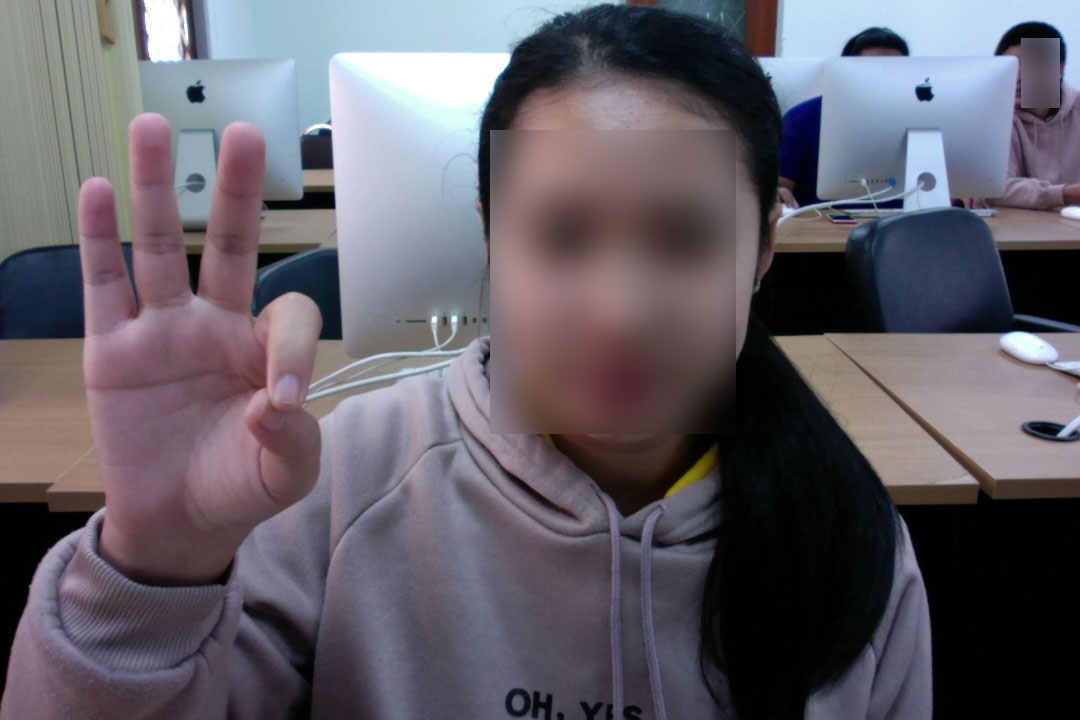for: (31, 63, 349, 590)
